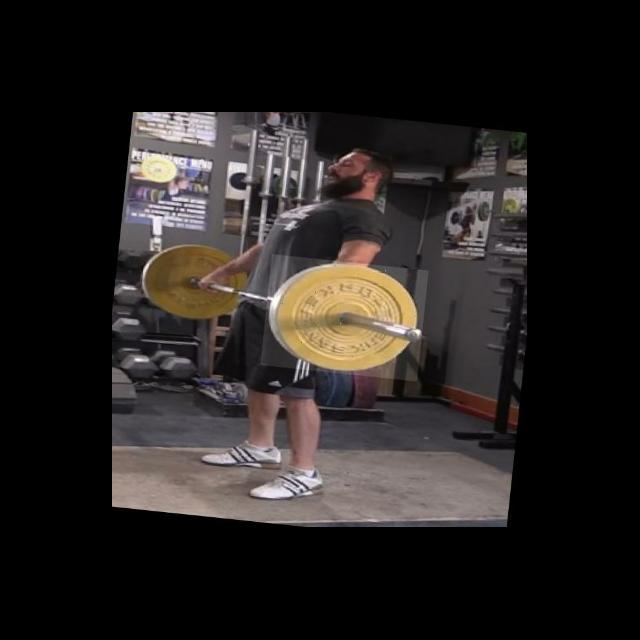barbell: (260, 255, 429, 383)
